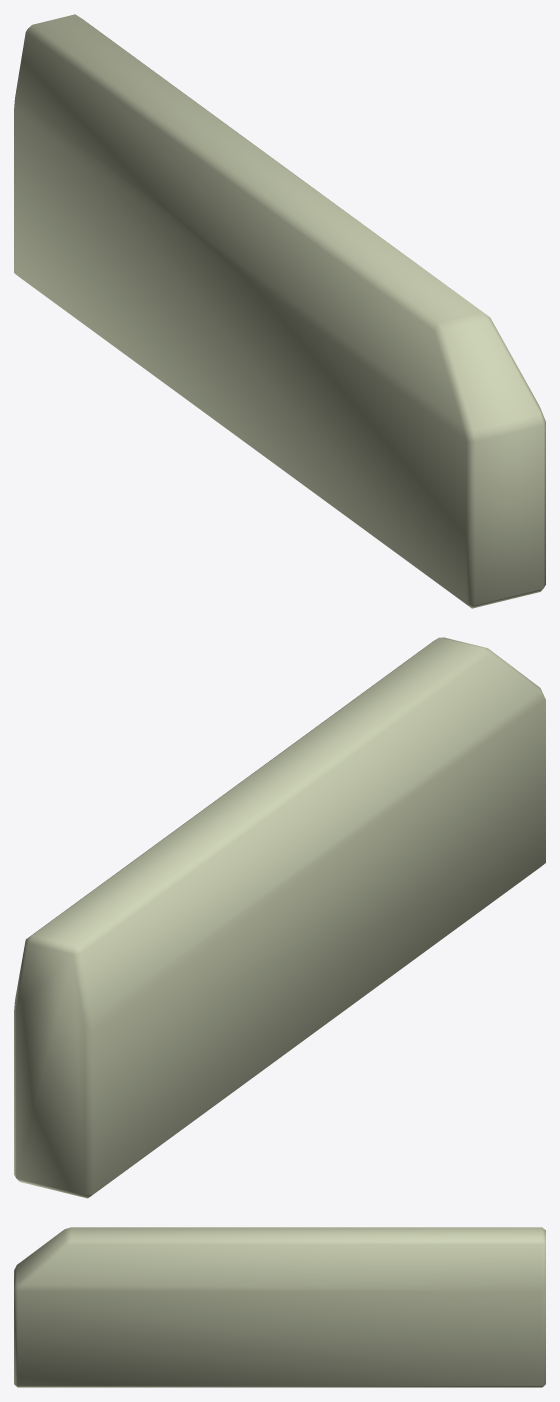
The model's file is keyBlack.obj.
3 renders of one model, top to bottom at view 1: azimuth 30°, elevation 25°; view 2: azimuth 150°, elevation 25°; view 3: azimuth 270°, elevation 25°, orthographic. The views are drawn at different scales.
Visible parts, largest first — view 1: keyBlack; view 2: keyBlack; view 3: keyBlack.
Boxes of the visible parts, bbox=[...] form: keyBlack: bbox=[14, 14, 545, 608]; keyBlack: bbox=[14, 637, 545, 1198]; keyBlack: bbox=[14, 1227, 545, 1387].
Bounding box in the file's own units: 1 × 3 × 10.
